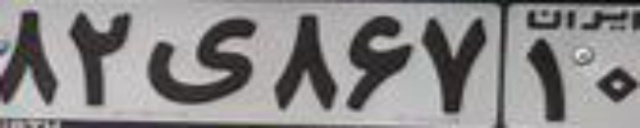0: (591, 64, 638, 105)
1: (522, 35, 567, 121)
2: (68, 9, 130, 109)
6: (347, 15, 411, 110)
7: (419, 15, 492, 113)
8: (266, 14, 341, 111), (1, 9, 57, 106)
ye: (141, 16, 252, 103)
